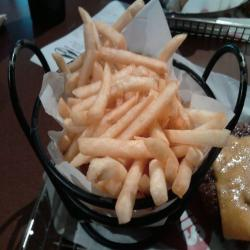fries: (49, 26, 226, 227)
